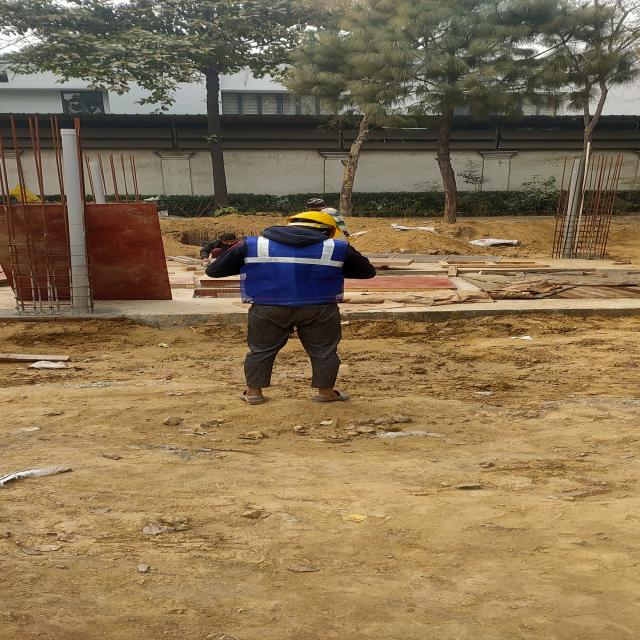safe: (232, 207, 364, 407)
